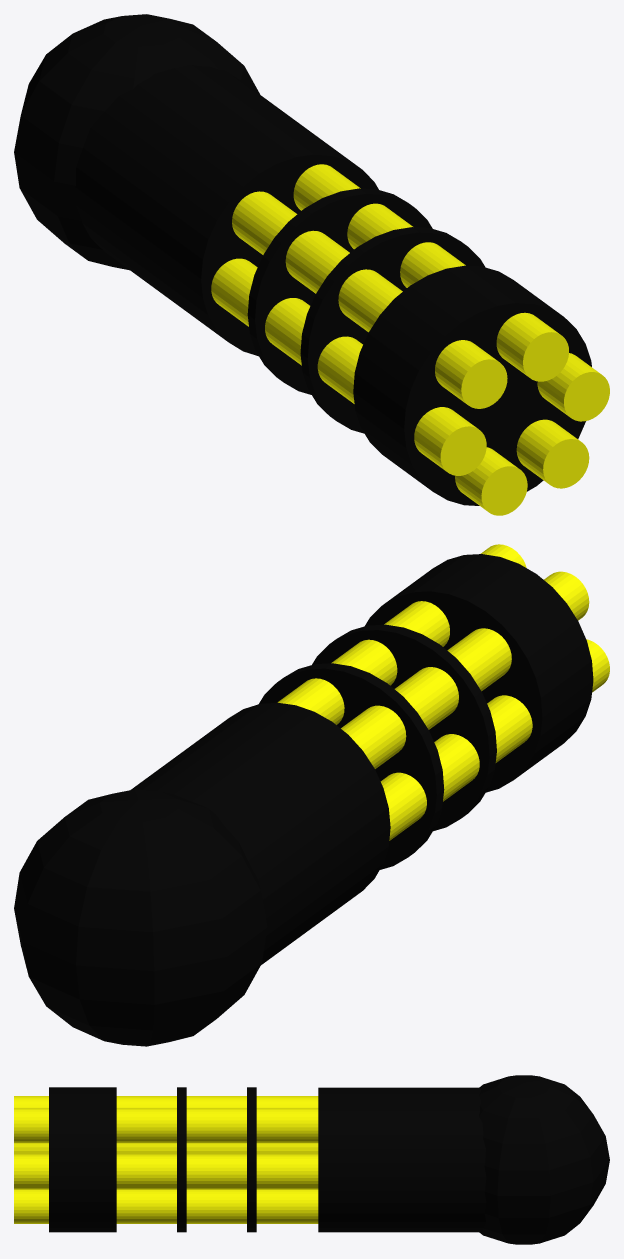
File: minigun.glb
3 renders of one model, top to bottom at view 1: azimuth 30°, elevation 25°; view 2: azimuth 150°, elevation 25°; view 3: azimuth 270°, elevation 25°, orthographic. The views are drawn at different scales.
Parts seen in each view (by area): view 1: Cylinder, Cylinder.001, Cylinder.004, Sphere, Cylinder.003, Cylinder.002; view 2: Sphere, Cylinder, Cylinder.001, Cylinder.004, Cylinder.002, Cylinder.003; view 3: Cylinder.001, Cylinder, Sphere, Cylinder.004, Cylinder.002, Cylinder.003.
Boxes of the visible parts, bbox=[...] form: Cylinder: bbox=[75, 64, 378, 356]; Cylinder.001: bbox=[211, 164, 609, 515]; Cylinder.004: bbox=[353, 265, 591, 505]; Sphere: bbox=[14, 14, 259, 270]; Cylinder.003: bbox=[300, 227, 485, 433]; Cylinder.002: bbox=[247, 188, 432, 394]; Sphere: bbox=[14, 789, 267, 1046]; Cylinder: bbox=[131, 702, 390, 964]; Cylinder.001: bbox=[277, 544, 609, 840]; Cylinder.004: bbox=[365, 554, 593, 792]; Cylinder.002: bbox=[259, 663, 444, 869]; Cylinder.003: bbox=[312, 624, 496, 831]; Cylinder.001: bbox=[14, 1096, 318, 1223]; Cylinder: bbox=[318, 1087, 486, 1232]; Sphere: bbox=[479, 1075, 609, 1244]; Cylinder.004: bbox=[49, 1087, 116, 1232]; Cylinder.002: bbox=[247, 1087, 256, 1232]; Cylinder.003: bbox=[177, 1087, 186, 1232].
Bounding box in the file's own units: 0.2335 × 0.2456 × 0.8515.
2 materials, 2 textured.
